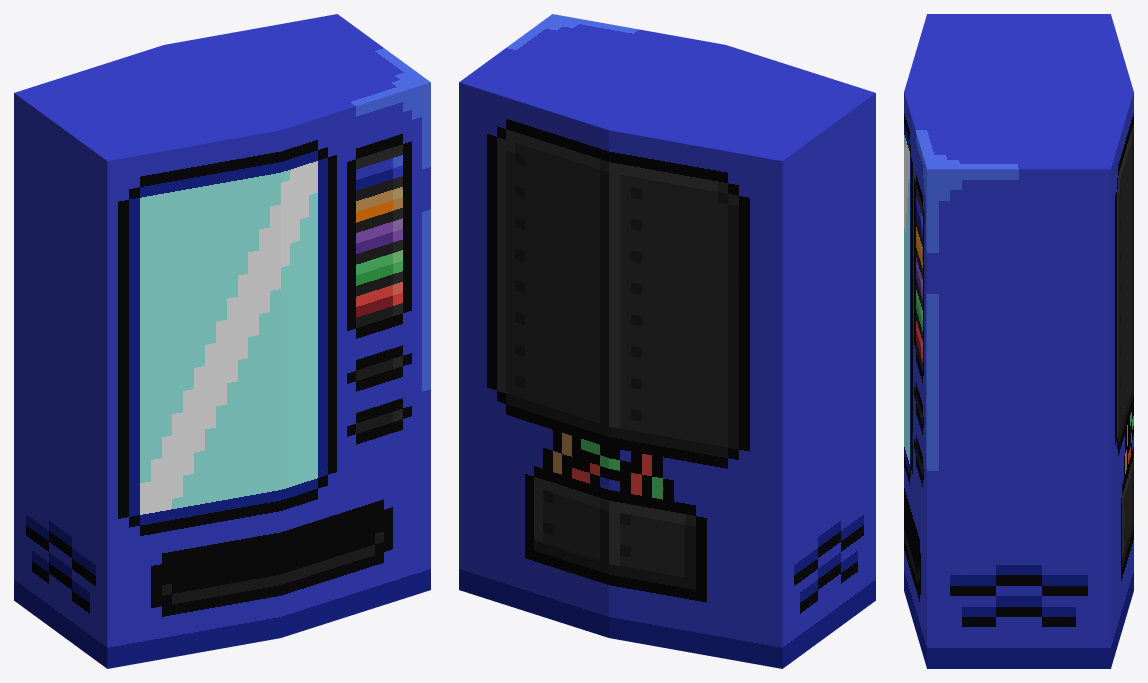
The model's file is vending machine.gltf.
3 views of the same model, side by side, from view 1: azimuth 30°, elevation 25°; view 2: azimuth 150°, elevation 25°; view 3: azimuth 270°, elevation 25° (orthographic).
Parts seen in each view (by area): view 1: vending machine; view 2: vending machine; view 3: vending machine.
Boxes of the visible parts, box(x1,y1,x2,y2) form: vending machine: box(14, 14, 430, 668); vending machine: box(459, 14, 875, 668); vending machine: box(904, 14, 1133, 668).
Bounding box in the file's own units: 2 × 3 × 1.25.
1 material, 1 textured.
